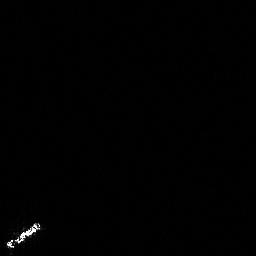ship: (3, 219, 44, 250)
